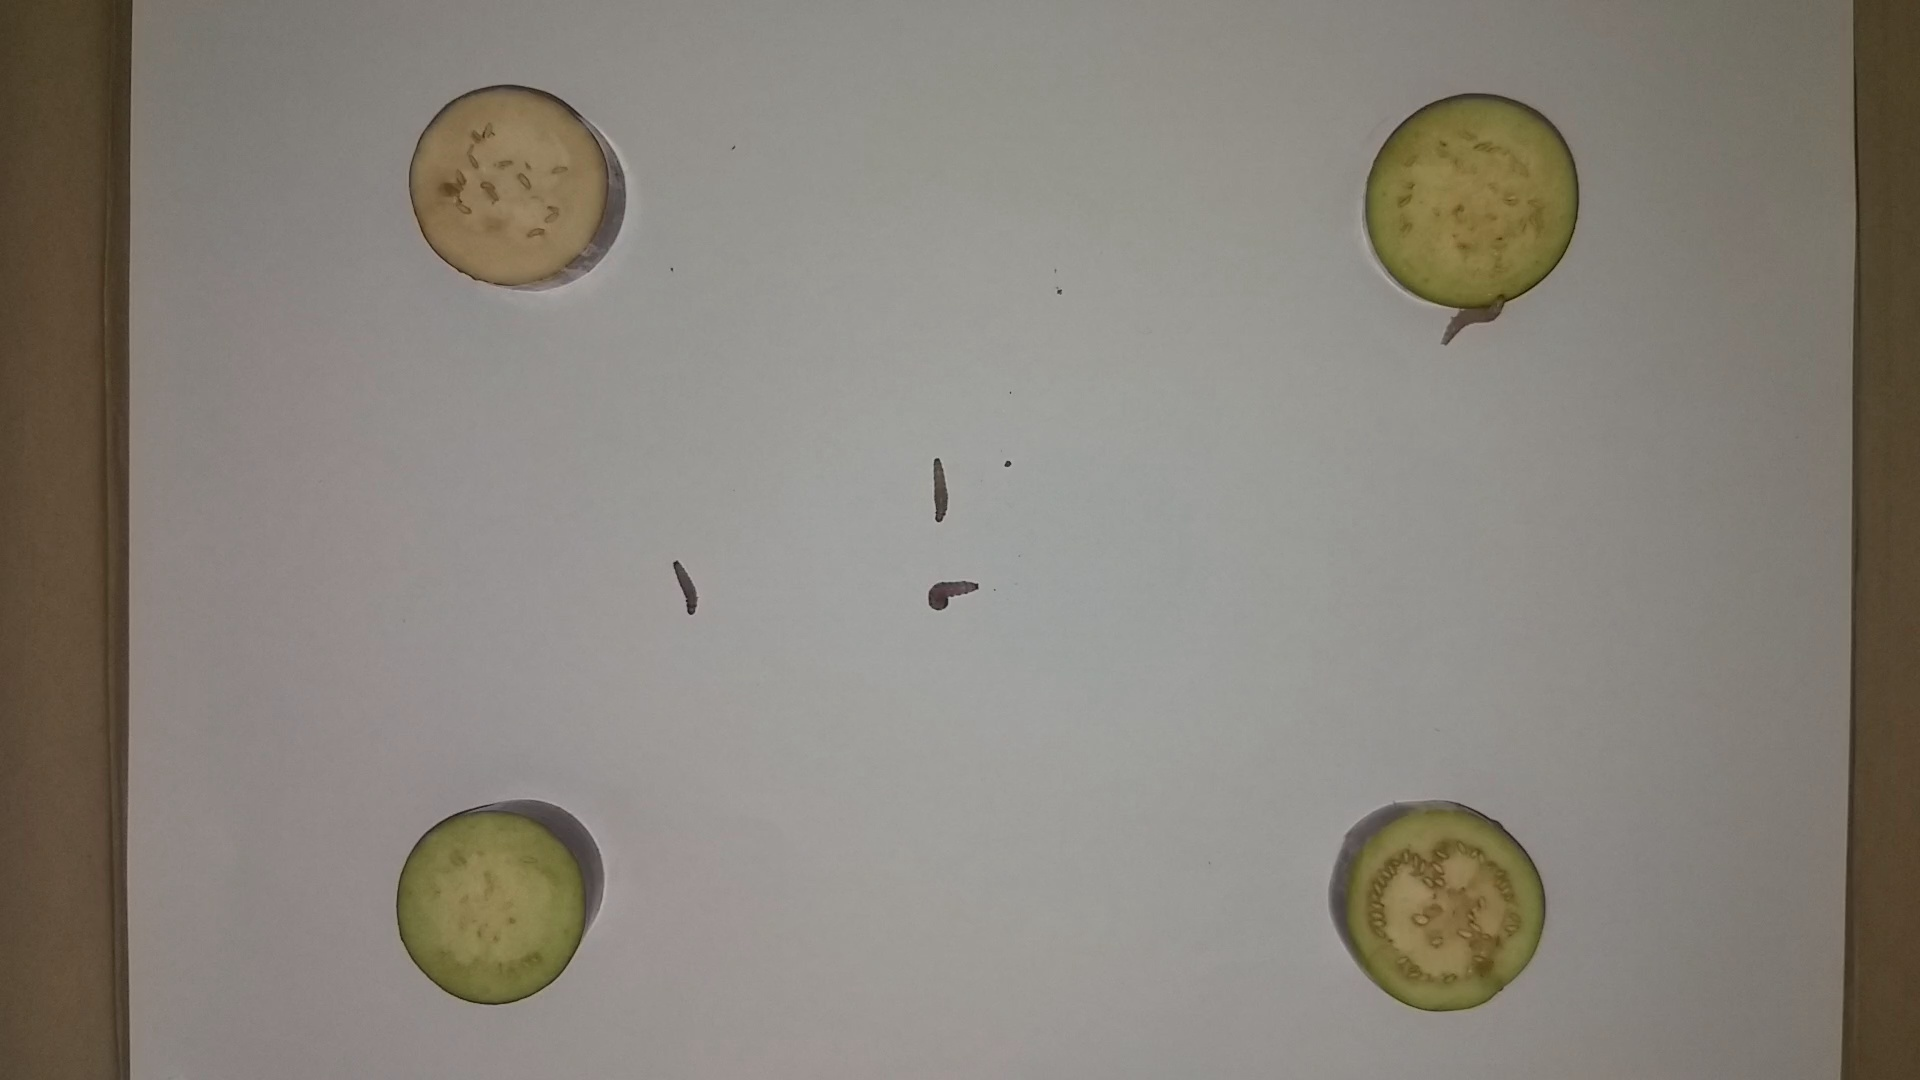efsb: (1436, 282, 1509, 355), (923, 568, 986, 622), (661, 551, 704, 618), (922, 455, 959, 530)
eggplant: (1358, 87, 1594, 324), (401, 76, 640, 302), (1327, 785, 1552, 1022), (389, 790, 613, 1011)
